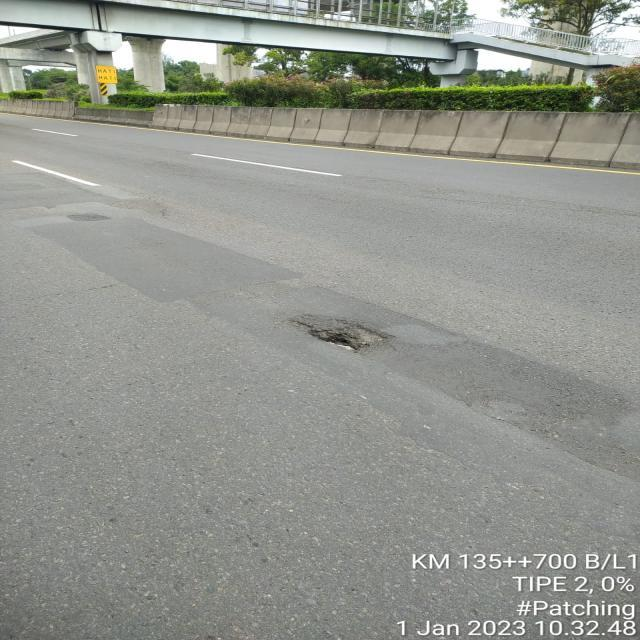Buraco: (280, 316, 399, 354)
